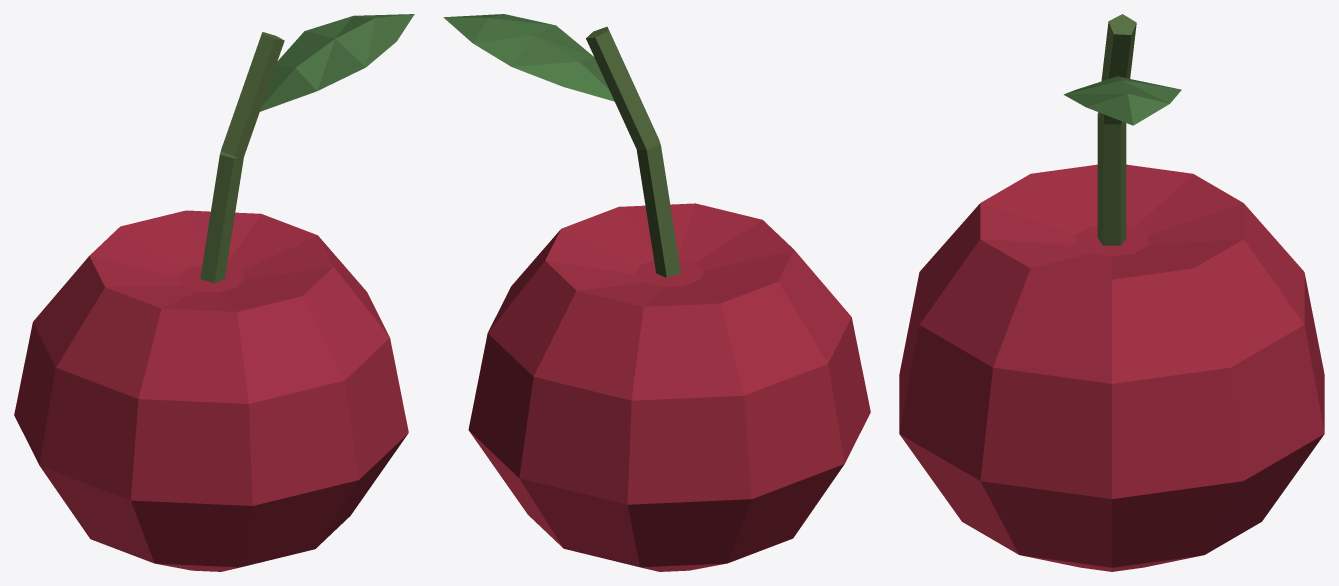
Rendered from cherry.glb.
3 views of the same model, side by side, from view 1: azimuth 30°, elevation 25°; view 2: azimuth 150°, elevation 25°; view 3: azimuth 270°, elevation 25° (orthographic). The views are drawn at different scales.
Parts seen in each view (by area): view 1: item; view 2: item; view 3: item.
Boxes of the visible parts, left/top/right/bottom form: item: left=14, top=14, right=414, bottom=571; item: left=443, top=14, right=870, bottom=571; item: left=899, top=14, right=1324, bottom=571.
Size of the model in its own units: 0.235 by 0.293 by 0.1997.
